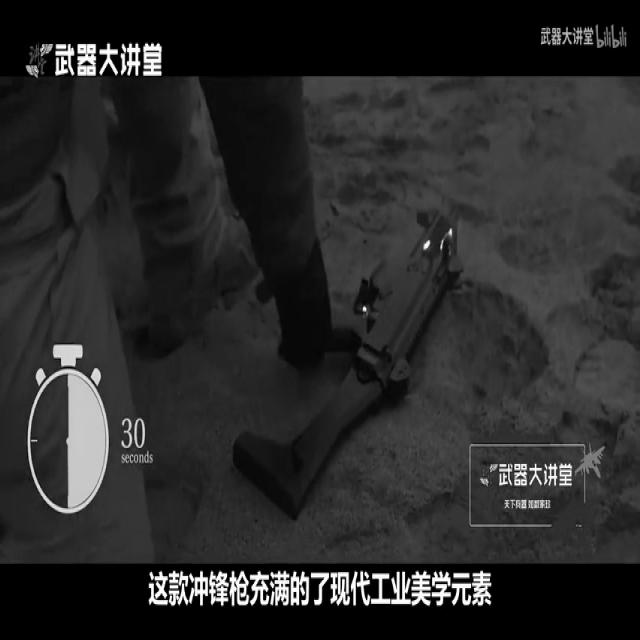Rifle: (162, 143, 506, 536)
